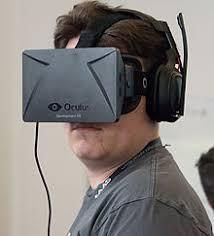oculus: (20, 46, 128, 130)
